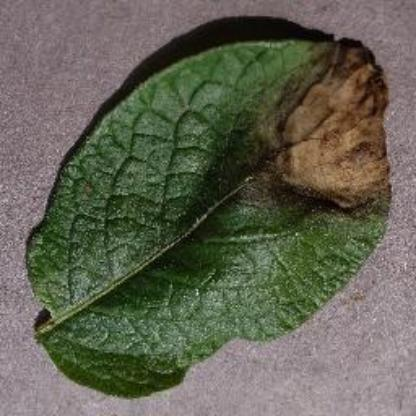Late-Blight: (11, 11, 400, 404)
